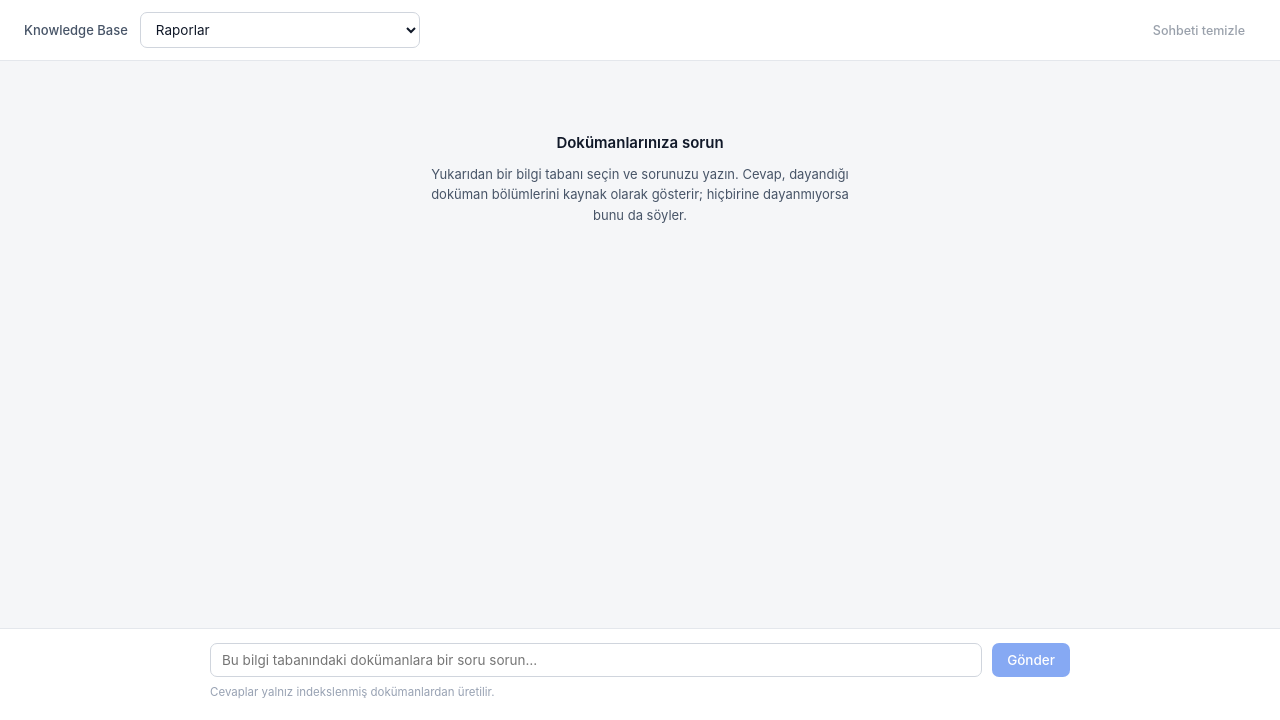
Test: Sohbet › puts the question back when the server refuses it under load
The width and height of the screenshot is (1280, 720).
Type "meşgul sunucu" into the field with placeholder "Bu bilgi tabanındaki dokümanlara bir soru sorun…" at (596, 660), box [210, 643, 982, 677]
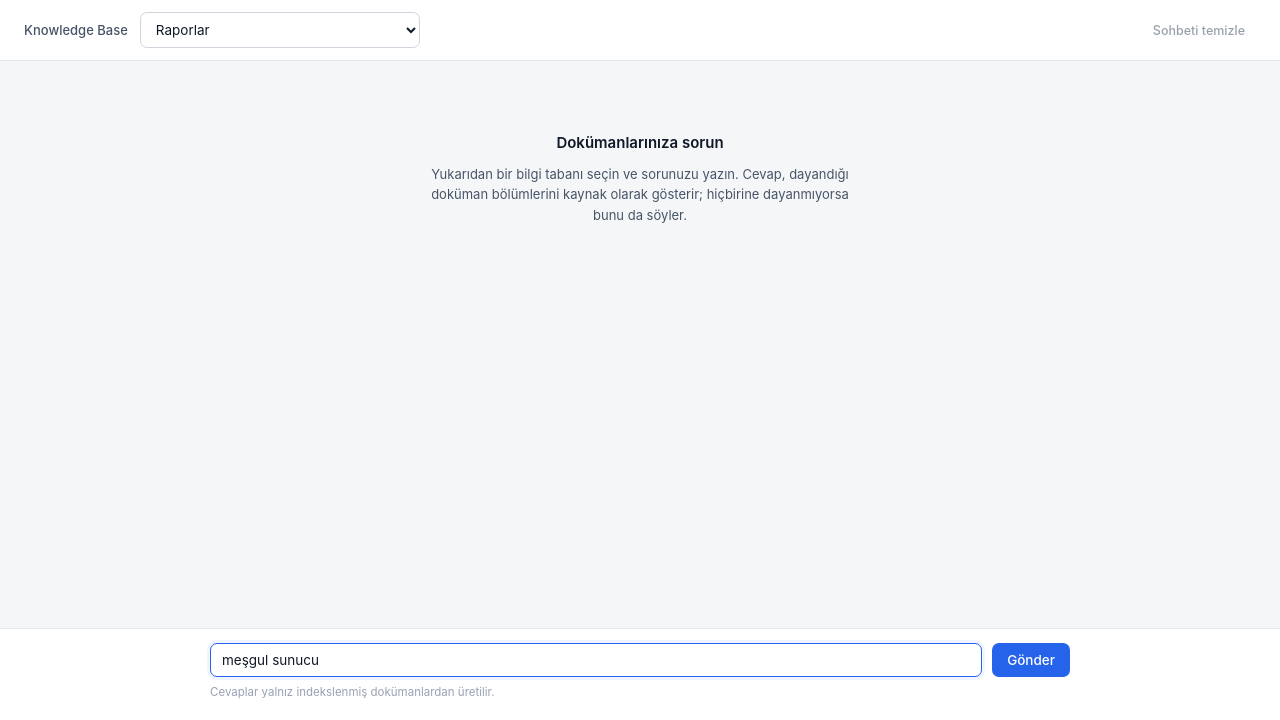
Click the button "Gönder" at (1031, 660), box [992, 643, 1070, 677]
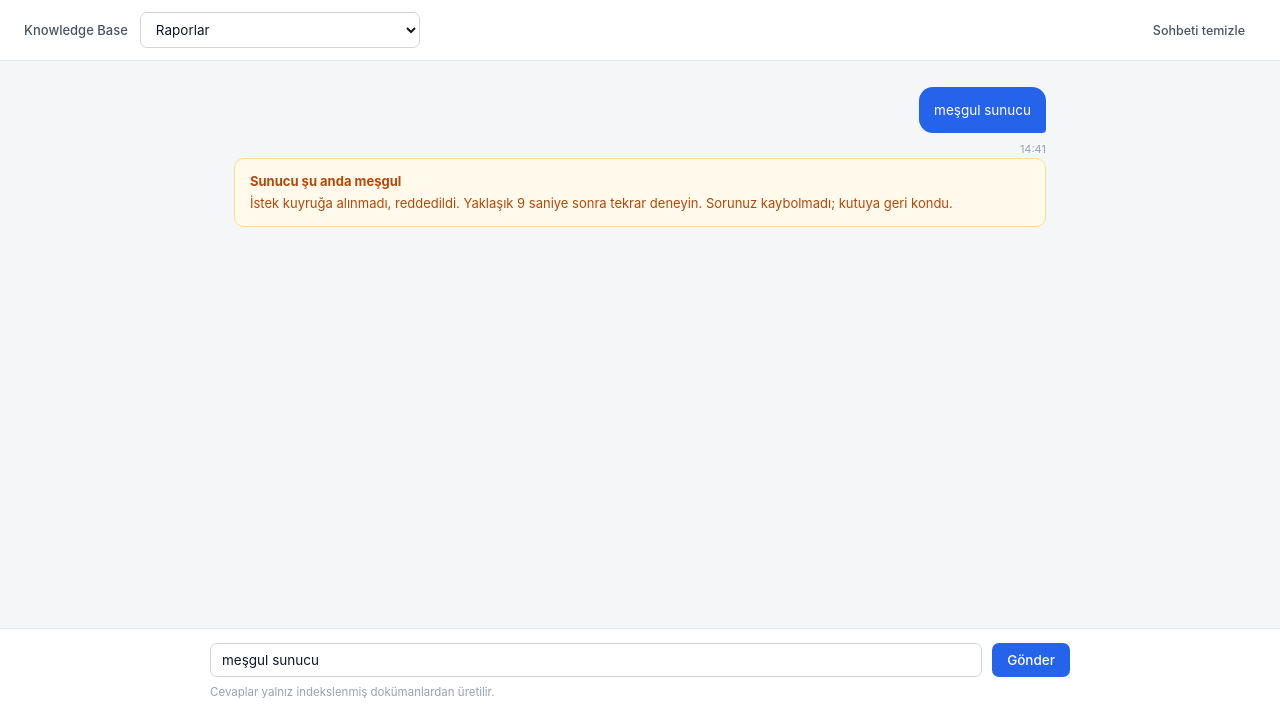
Expected: the text "Sunucu şu anda meşgul" is shown, [250, 173, 401, 189]
Expected: the text "9 saniye sonra" is shown, [250, 196, 702, 212]
